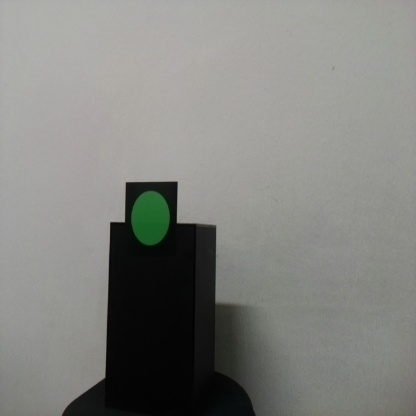id_5: (126, 181, 178, 258)
